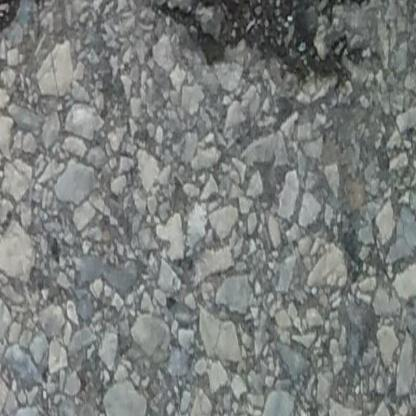Cracks: (134, 0, 416, 83), (0, 0, 57, 59)
